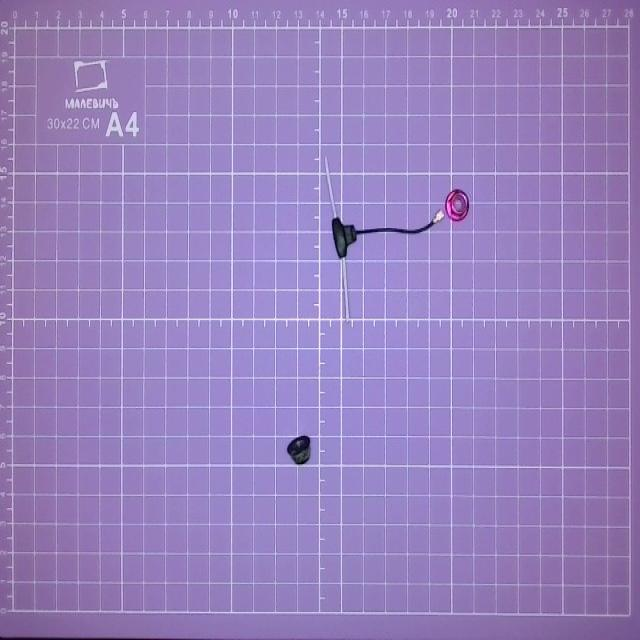antenna: (325, 153, 444, 319)
screw_M5: (287, 426, 314, 470), (447, 181, 472, 226)
